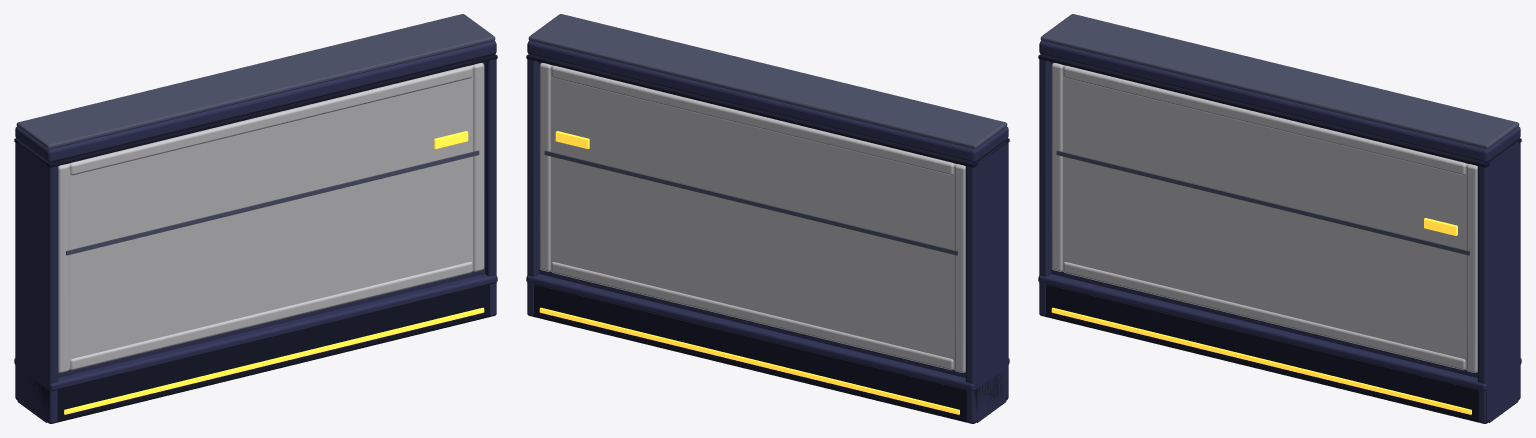
Rendered from int.halfwall.l1.9.glb.
3 renders of one model, left to right at view 1: azimuth 30°, elevation 25°; view 2: azimuth 150°, elevation 25°; view 3: azimuth 330°, elevation 25°, orthographic.
Parts seen in each view (by area): view 1: int.halfwall.l1.9; view 2: int.halfwall.l1.9; view 3: int.halfwall.l1.9.
Part boxes in pixels (x1,y1,x2,y2): int.halfwall.l1.9: (14, 14, 497, 423); int.halfwall.l1.9: (526, 14, 1009, 423); int.halfwall.l1.9: (1038, 14, 1521, 423).
Bounding box in the file's own units: 1.91 × 1.13 × 0.278.
